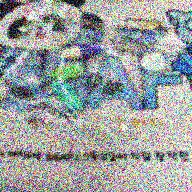러키펜정: (141, 53, 168, 72)
씨엠지세파클러캡슐: (62, 44, 102, 60)
에르도캡슐: (50, 79, 84, 113)
휴티렌정: (51, 65, 84, 80)
